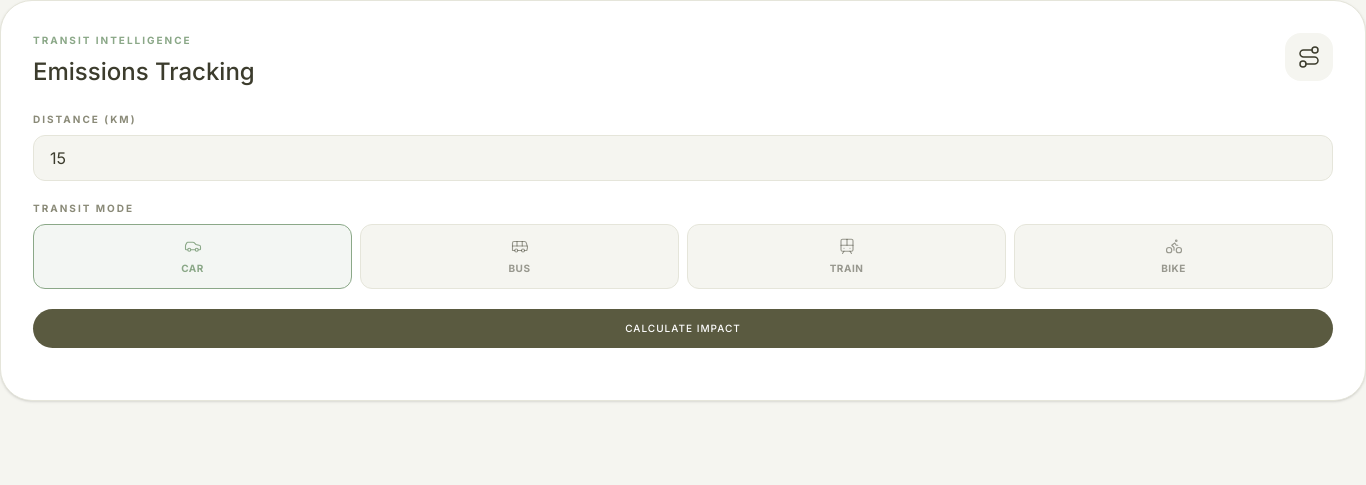
Scenario: TransitFootprint › handles api error gracefully and shows error message
The width and height of the screenshot is (1366, 485).
Click the button "Calculate Impact" at (683,328), box top-left (33, 309), bottom-right (1333, 348)
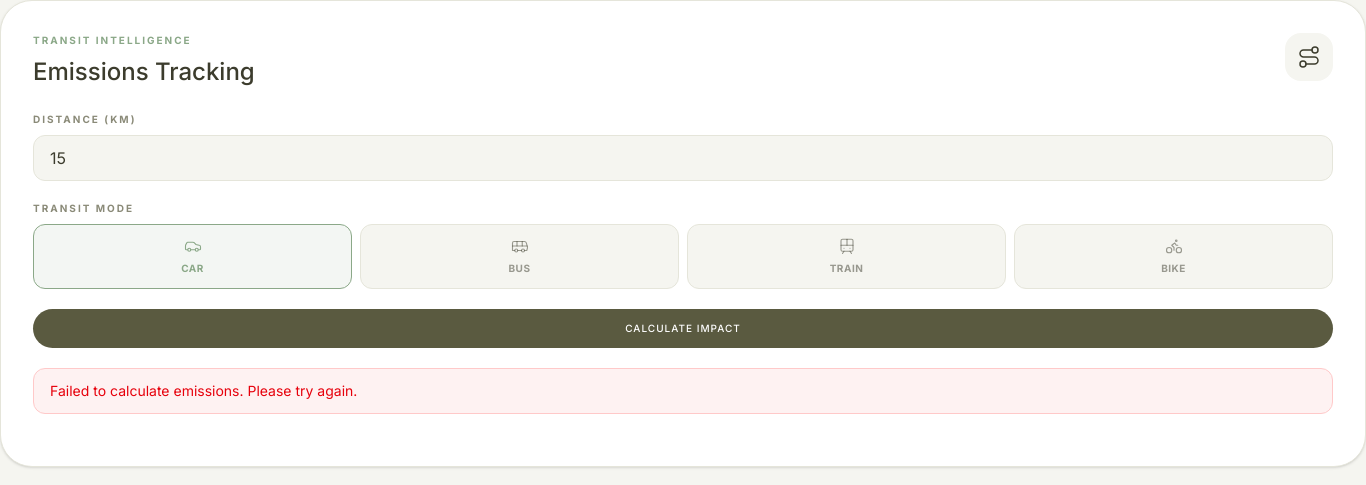
Expected: the message shows "Failed to calculate emissions", top-left (50, 382), bottom-right (357, 399)
